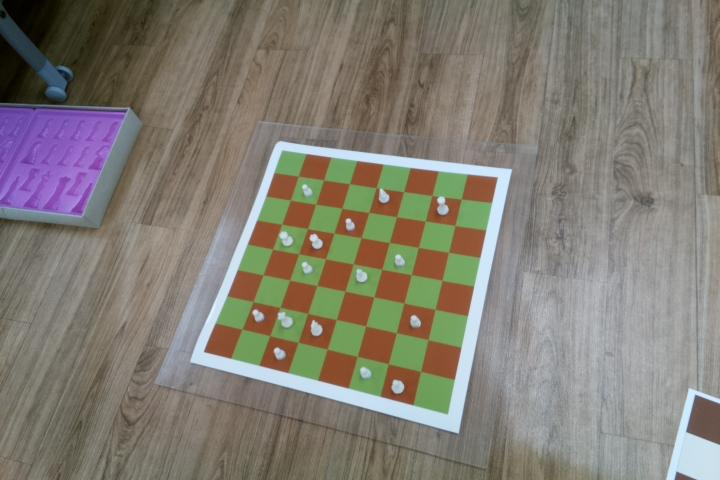chessboard-detect: (204, 151, 498, 416)
